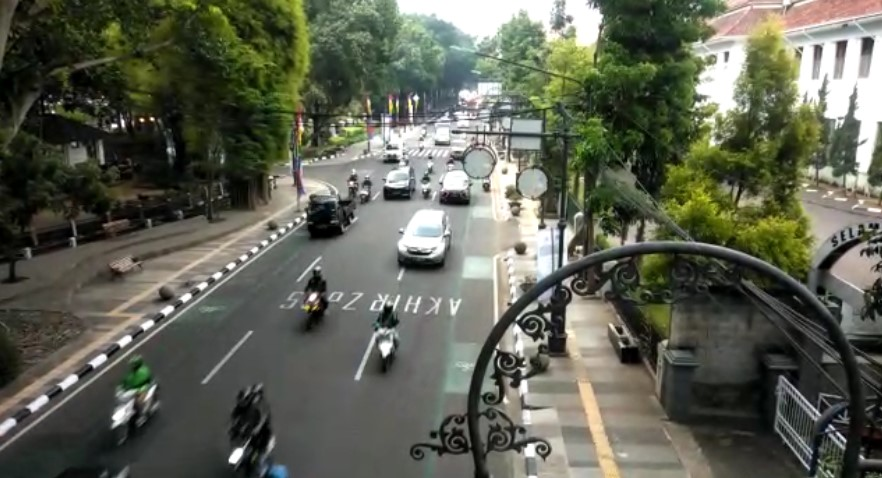mobil: (394, 209, 458, 271), (302, 192, 358, 235), (439, 168, 476, 205), (379, 164, 415, 201)
motor: (100, 357, 163, 443), (223, 382, 278, 470), (371, 301, 402, 369), (297, 264, 330, 327), (358, 176, 374, 206), (417, 172, 435, 198), (344, 168, 358, 197)
